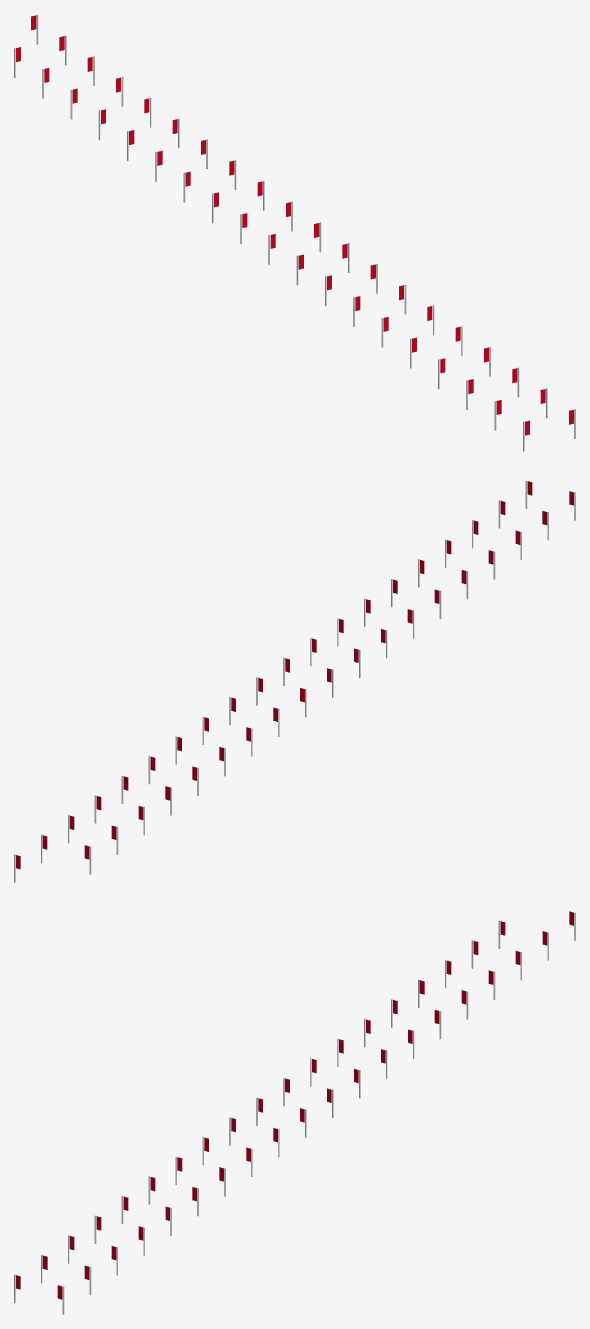
File: Flags.fbx
The picture shows the model from 3 angles, top to bottom: view 1: azimuth 30°, elevation 25°; view 2: azimuth 150°, elevation 25°; view 3: azimuth 330°, elevation 25°; orthographic projection. The views are drawn at different scales.
Visible parts, largest first — view 1: Flag Pole, Flag Pole.001; view 2: Flag Pole, Flag Pole.001; view 3: Flag Pole, Flag Pole.001.
Part boxes in pixels (x1,y1,x2,y2): Flag Pole: (31,14,575,438); Flag Pole.001: (14,46,530,451); Flag Pole: (14,480,532,882); Flag Pole.001: (84,491,575,874); Flag Pole: (57,911,575,1314); Flag Pole.001: (14,920,505,1302).
Bounding box in the file's own units: 1520 × 800 × 26503.
